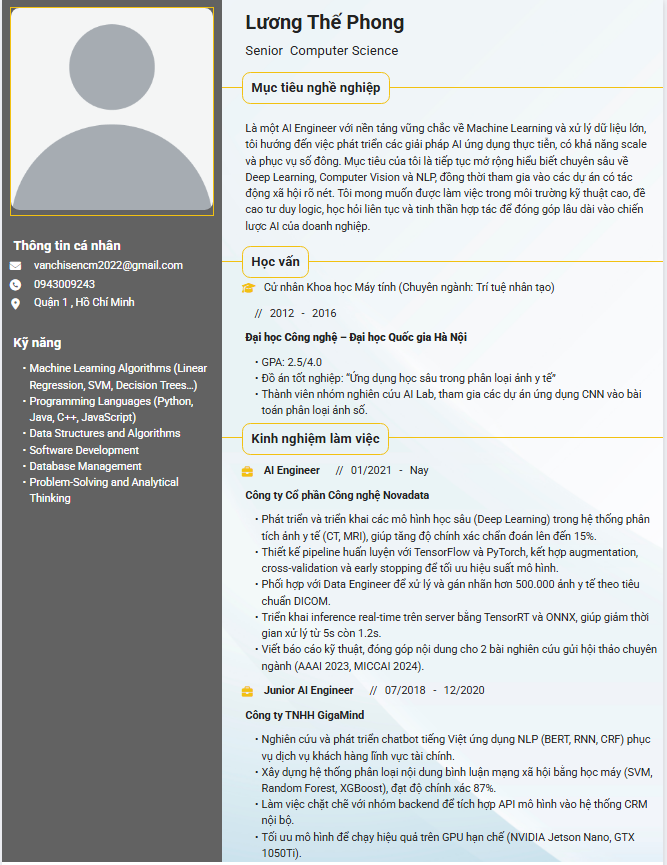address: (7, 296, 143, 317)
gpa: (252, 352, 325, 370)
level: (239, 44, 286, 59)
position: (289, 38, 407, 64)
skill: (10, 331, 210, 507)
